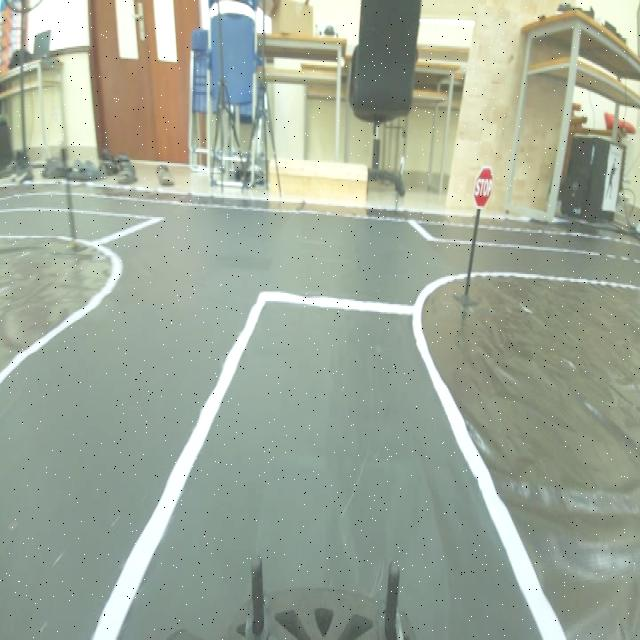stop: (470, 163, 496, 212)
